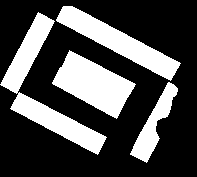parkingspot: (56, 6, 180, 80), (10, 92, 106, 154), (0, 12, 54, 93), (61, 50, 135, 102), (130, 82, 177, 162), (52, 67, 125, 118)
